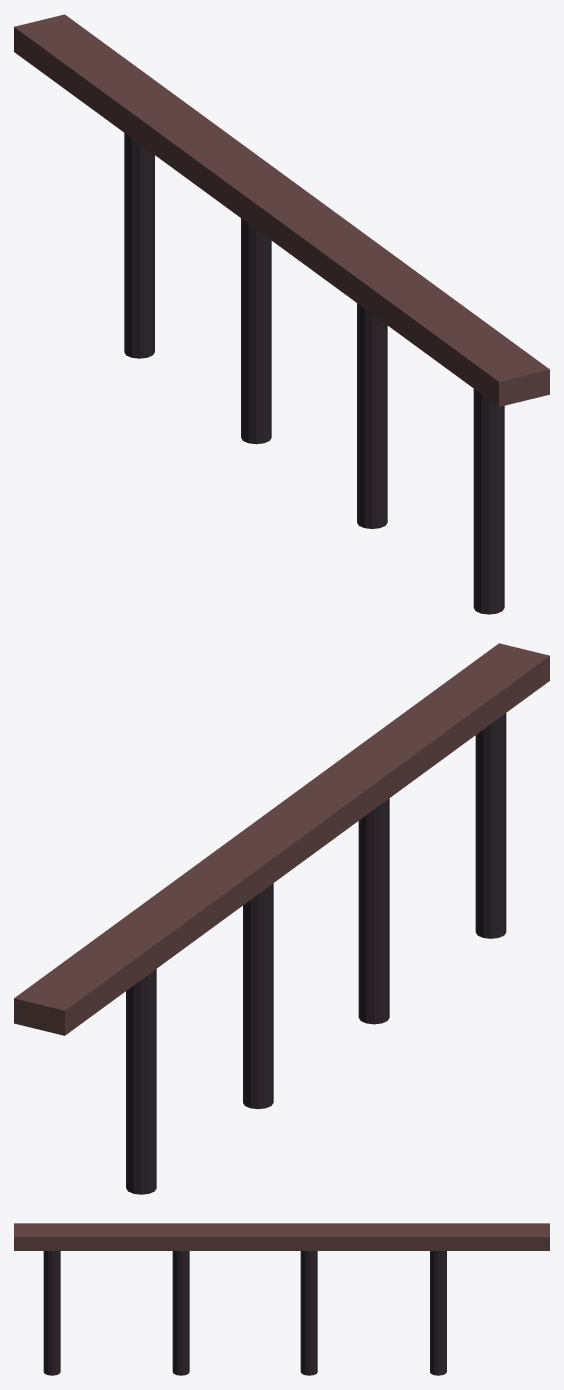
The model's file is mod_fence_lastfloor.fbx.
3 renders of one model, top to bottom at view 1: azimuth 30°, elevation 25°; view 2: azimuth 150°, elevation 25°; view 3: azimuth 270°, elevation 25°, orthographic. The views are drawn at different scales.
Visible parts, largest first — view 1: mod_fence_lastfloor; view 2: mod_fence_lastfloor; view 3: mod_fence_lastfloor.
Part boxes in pixels (x1,y1,x2,y2): mod_fence_lastfloor: (14,14,549,614); mod_fence_lastfloor: (14,643,549,1194); mod_fence_lastfloor: (14,1223,549,1375).
Size of the model in its own units: 0.1328 by 0.6419 by 2.19.
Materials: 1 (1 with a texture image).
